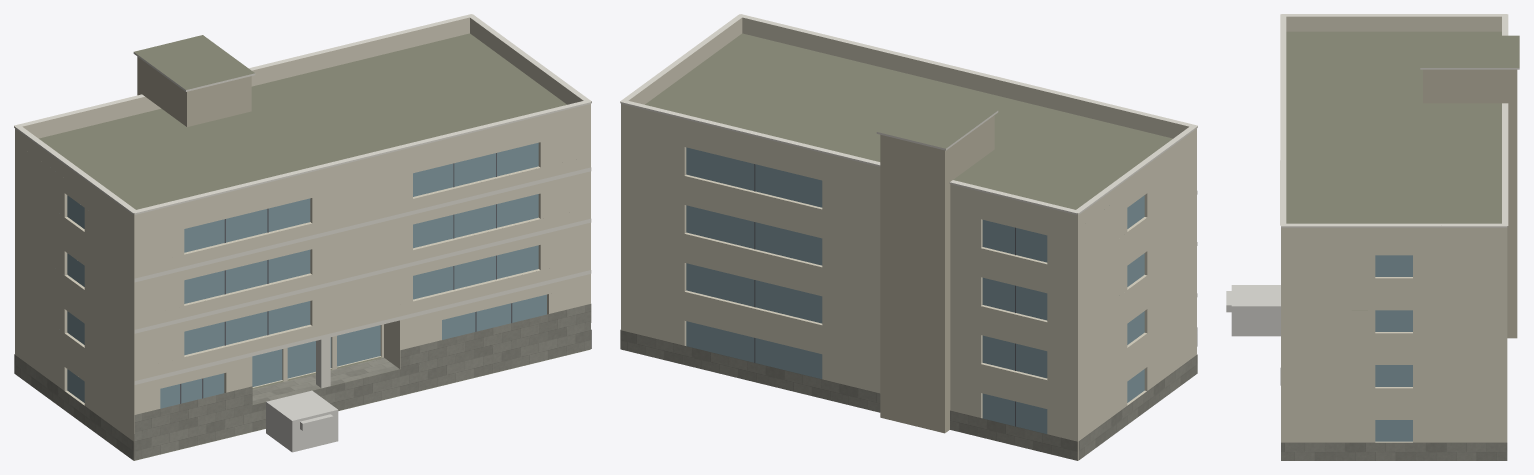
3 renders of one model, left to right at view 1: azimuth 30°, elevation 25°; view 2: azimuth 150°, elevation 25°; view 3: azimuth 270°, elevation 25°, orthographic. The views are drawn at different scales.
Parts seen in each view (by area): view 1: b926__wall, b926__roof, b926__glass, b926__base, b926__parapet, b926__trim, b926__wall2, b926__entranceStair, b926__column, b926__frame; view 2: b926__wall, b926__roof, b926__glass, b926__wall2, b926__parapet, b926__base, b926__trim; view 3: b926__wall, b926__roof, b926__parapet, b926__wall2, b926__trim, b926__base, b926__glass, b926__entranceStair.
Boxes of the visible parts, left/top/right/bottom form: b926__wall: left=15, top=117, right=590, bottom=460; b926__roof: left=39, top=33, right=589, bottom=460; b926__glass: left=67, top=142, right=546, bottom=408; b926__base: left=14, top=304, right=591, bottom=460; b926__parapet: left=15, top=17, right=590, bottom=228; b926__trim: left=14, top=14, right=591, bottom=384; b926__wall2: left=137, top=56, right=251, bottom=126; b926__entranceStair: left=266, top=390, right=338, bottom=452; b926__column: left=316, top=337, right=330, bottom=388; b926__frame: left=180, top=153, right=512, bottom=403; b926__wall: left=621, top=117, right=1196, bottom=460; b926__roof: left=645, top=33, right=1172, bottom=460; b926__glass: left=686, top=147, right=1144, bottom=433; b926__wall2: left=880, top=115, right=994, bottom=433; b926__parapet: left=621, top=17, right=1196, bottom=228; b926__base: left=620, top=327, right=1197, bottom=460; b926__trim: left=620, top=14, right=1197, bottom=296; b926__wall: left=1281, top=241, right=1507, bottom=442; b926__roof: left=1286, top=31, right=1519, bottom=310; b926__parapet: left=1281, top=16, right=1507, bottom=240; b926__wall2: left=1423, top=69, right=1517, bottom=338; b926__trim: left=1280, top=14, right=1519, bottom=227; b926__base: left=1280, top=368, right=1507, bottom=460; b926__glass: left=1375, top=255, right=1412, bottom=441; b926__entranceStair: left=1226, top=285, right=1280, bottom=336.
Size of the model in its own units: 29.83 by 18.09 by 17.44.
11 materials, 1 textured.
